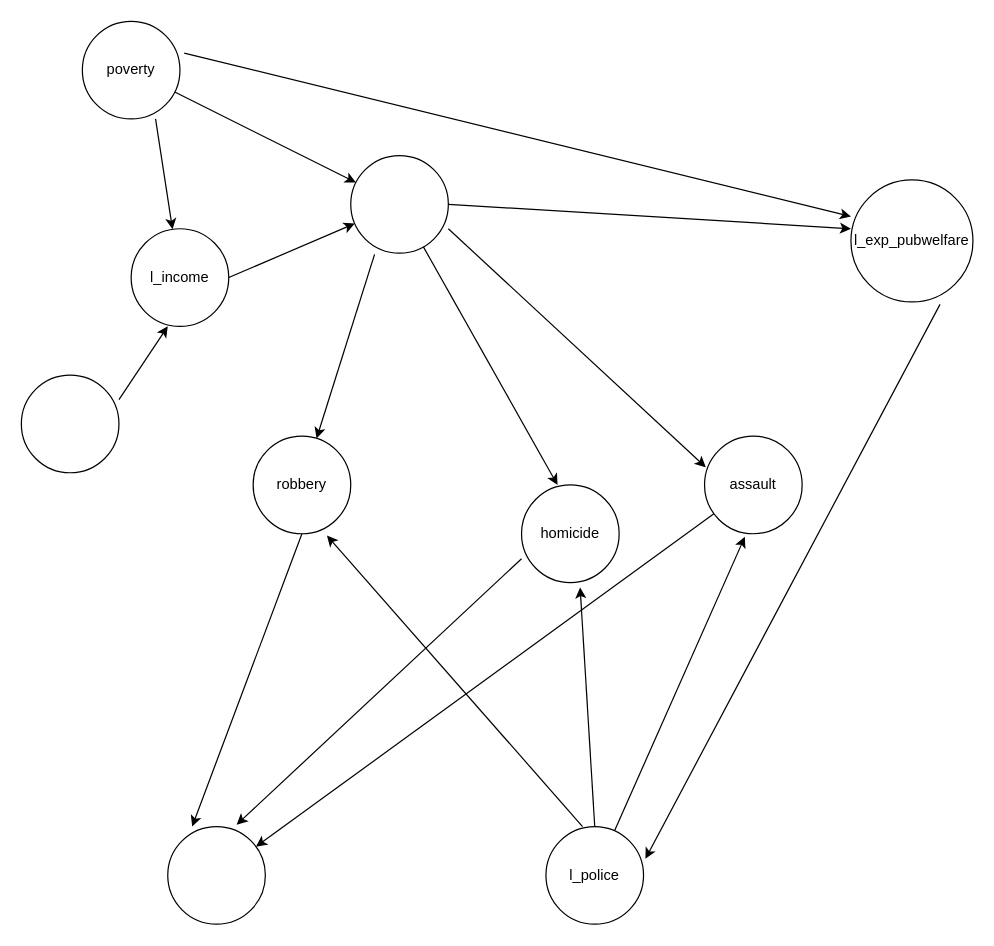
The diagram is 994 pixels wide and 946 high, and some of its shapes have lost their labels. Here are the shapes that lost their labels. From the top down, the box of each, then its label:
(350, 154, 448, 253): unemployrt
(20, 374, 119, 473): l_exp_subsidy
(167, 825, 265, 924): l_prisoner
